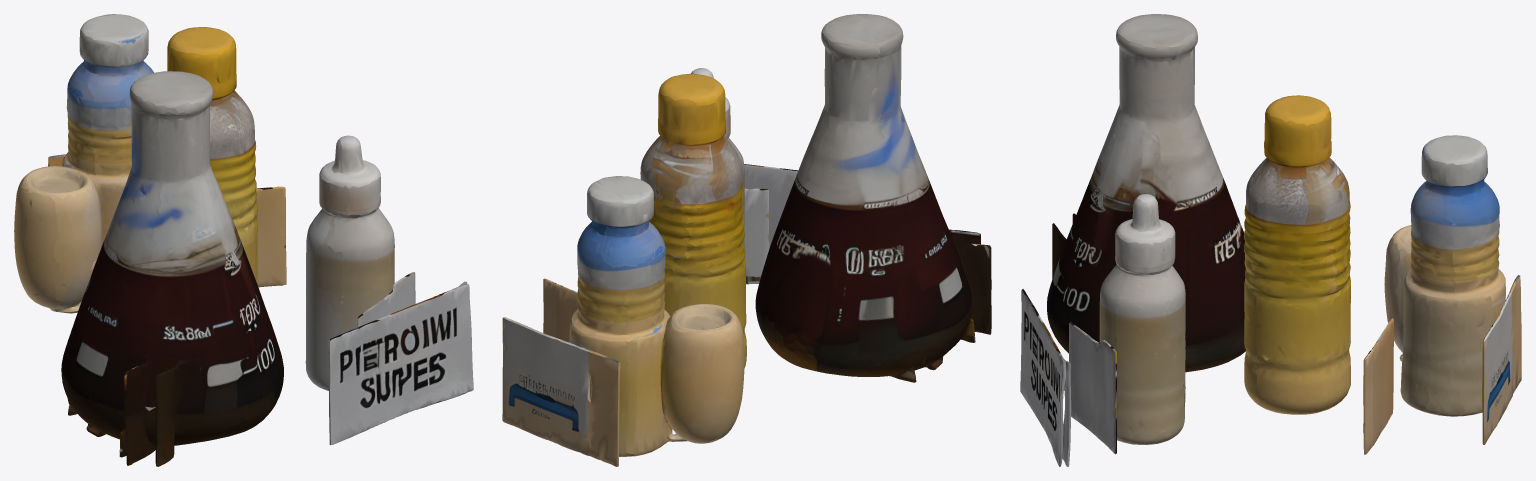
3 views of the same model, side by side, from view 1: azimuth 30°, elevation 25°; view 2: azimuth 150°, elevation 25°; view 3: azimuth 270°, elevation 25° (orthographic). The views are drawn at different scales.
Visible parts, largest first — view 1: textured_mesh; view 2: textured_mesh; view 3: textured_mesh.
Boxes of the visible parts, left/top/right/bottom form: textured_mesh: left=14, top=14, right=473, bottom=466; textured_mesh: left=502, top=14, right=991, bottom=466; textured_mesh: left=1020, top=14, right=1521, bottom=466.
Size of the model in its own units: 1.55 by 1.41 by 1.99.
1 material, 1 textured.
